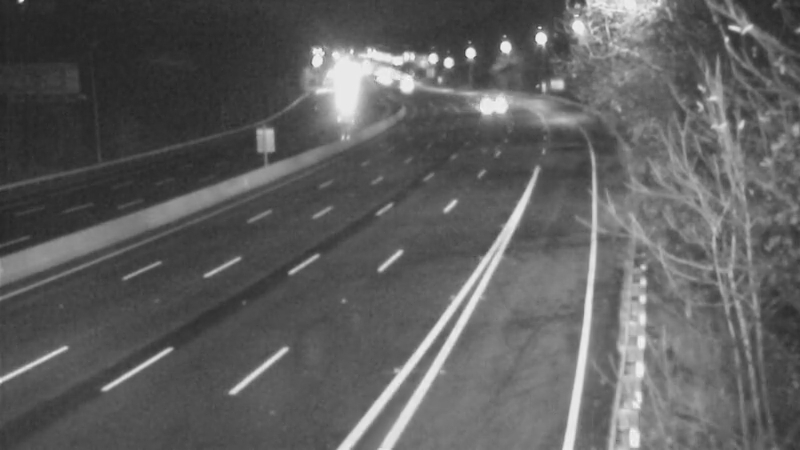vehicle: (468, 81, 518, 131), (319, 77, 369, 127)
